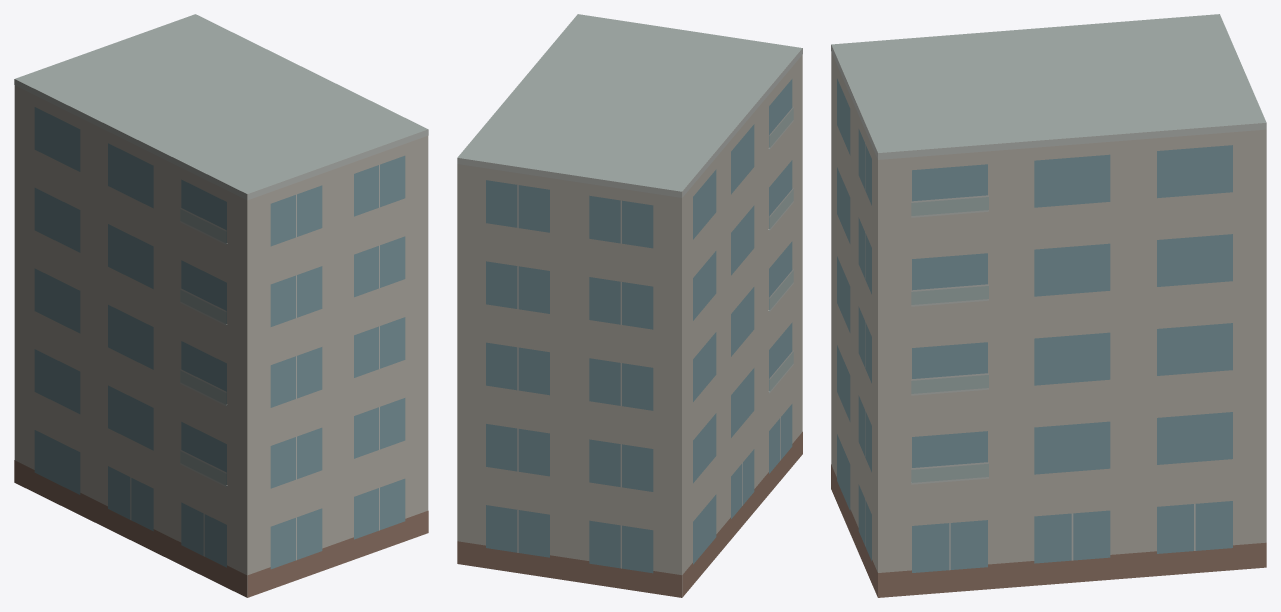
File: survey-upis-32532977.glb
3 views of the same model, side by side, from view 1: azimuth 30°, elevation 25°; view 2: azimuth 150°, elevation 25°; view 3: azimuth 270°, elevation 25° (orthographic). The views are drawn at different scales.
Parts seen in each view (by area): view 1: survey-upis-32532977.tmp; view 2: survey-upis-32532977.tmp; view 3: survey-upis-32532977.tmp.
Boxes of the visible parts, left/top/right/bottom form: survey-upis-32532977.tmp: left=14, top=14, right=428, bottom=597; survey-upis-32532977.tmp: left=457, top=14, right=802, bottom=597; survey-upis-32532977.tmp: left=831, top=14, right=1266, bottom=597.
Bounding box in the file's own units: 10.68 × 15.9 × 14.12.
